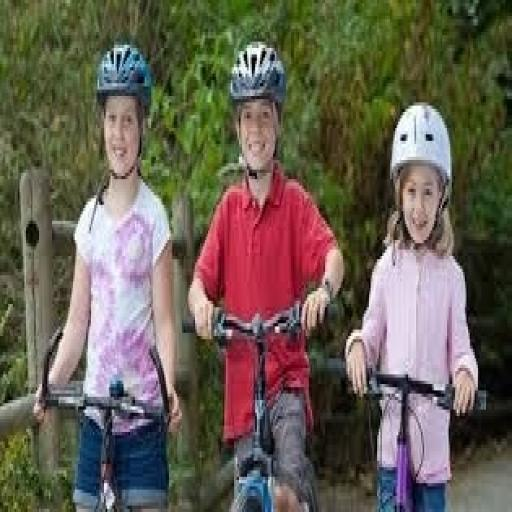cycling: (186, 35, 346, 509), (32, 38, 184, 509), (343, 99, 481, 509)
